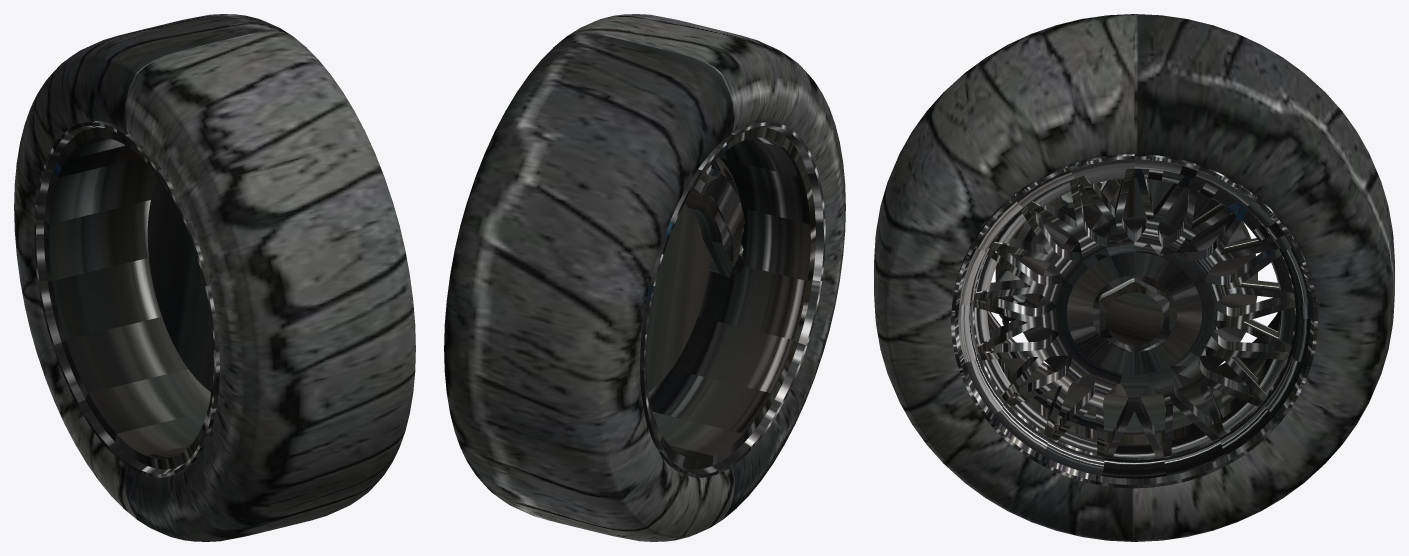
Rendered from llantait.dae.
The picture shows the model from 3 angles, left to right: view 1: azimuth 30°, elevation 25°; view 2: azimuth 150°, elevation 25°; view 3: azimuth 270°, elevation 25°; orthographic projection.
Visible parts, largest first — view 1: llantait; view 2: llantait; view 3: llantait.
Boxes of the visible parts, x1,y1,x2,y2 form: llantait: (14,14,415,541); llantait: (444,14,845,541); llantait: (874,14,1394,541).
Size of the model in its own units: 0.25 by 0.6232 by 0.6232.
